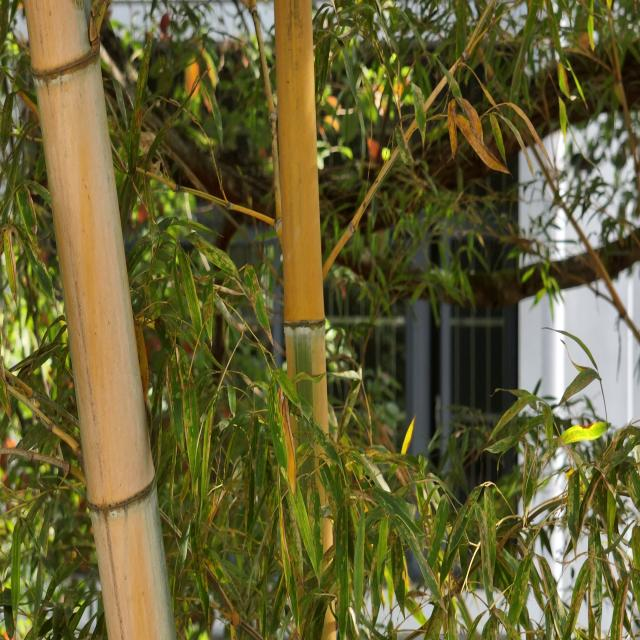Bamboo-shoots: (25, 0, 175, 640), (274, 0, 340, 640)
